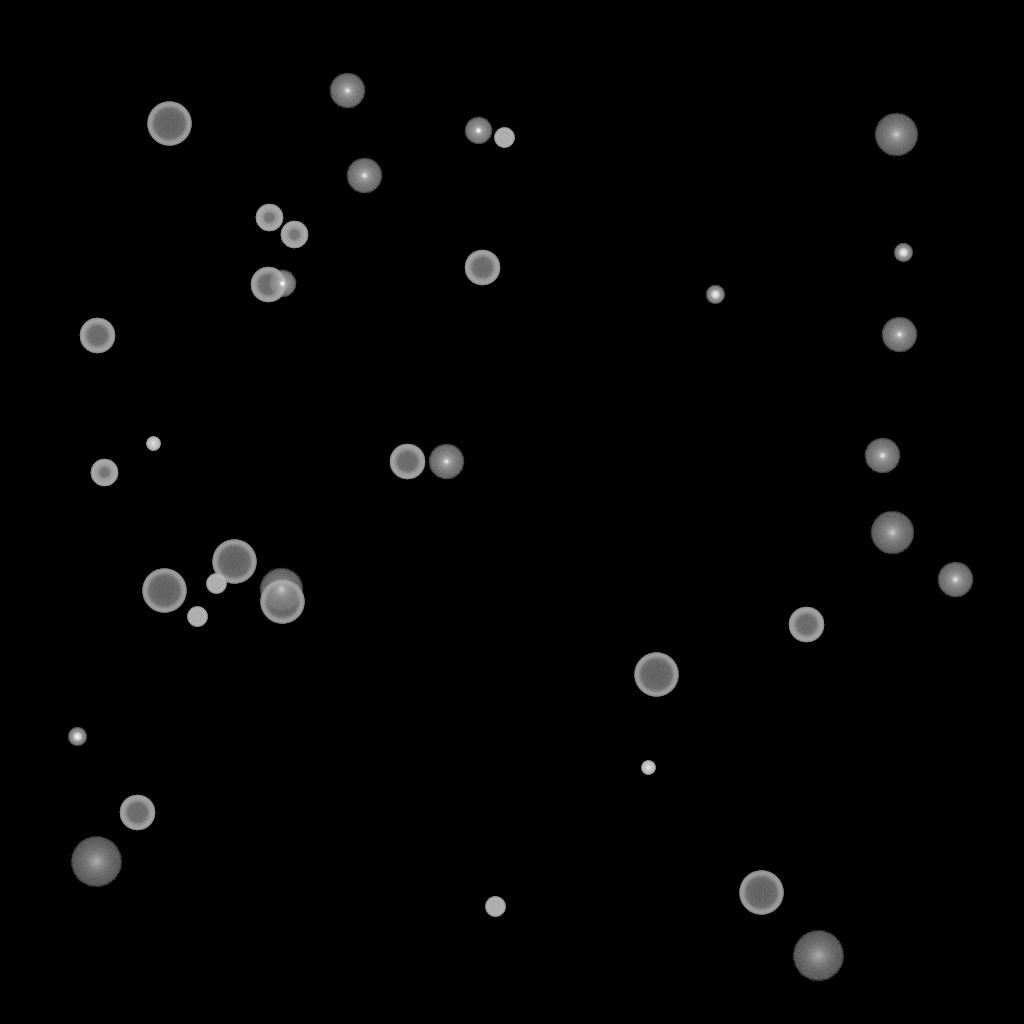depth:-10: (268, 270, 296, 298), (464, 117, 492, 145)
depth:-20: (68, 728, 86, 746), (706, 286, 724, 304), (894, 244, 912, 262)
depth:-30: (641, 761, 655, 775), (146, 437, 160, 451)
depth:-40: (494, 128, 514, 148), (187, 607, 207, 627), (206, 574, 226, 594), (485, 897, 505, 917)
depth:-50: (255, 204, 283, 232), (280, 221, 308, 249), (90, 459, 118, 487)
depth:-60: (788, 607, 824, 643), (389, 444, 425, 480), (119, 795, 155, 831), (464, 250, 500, 286), (79, 318, 115, 354), (250, 267, 286, 303)
depth:-70: (142, 569, 186, 613), (212, 540, 256, 584), (147, 102, 191, 146), (739, 871, 783, 915), (634, 653, 678, 697), (260, 580, 304, 624)
depth:0: (346, 158, 382, 194), (937, 562, 973, 598), (881, 317, 917, 353), (428, 444, 464, 480), (864, 438, 900, 474), (329, 73, 365, 109)
depth:10: (259, 568, 303, 612), (874, 113, 918, 157), (870, 511, 914, 555)
depth:20: (792, 931, 844, 981), (70, 837, 122, 887)
